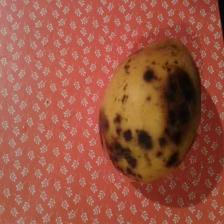Mango Semirotten: (99, 36, 202, 183)
